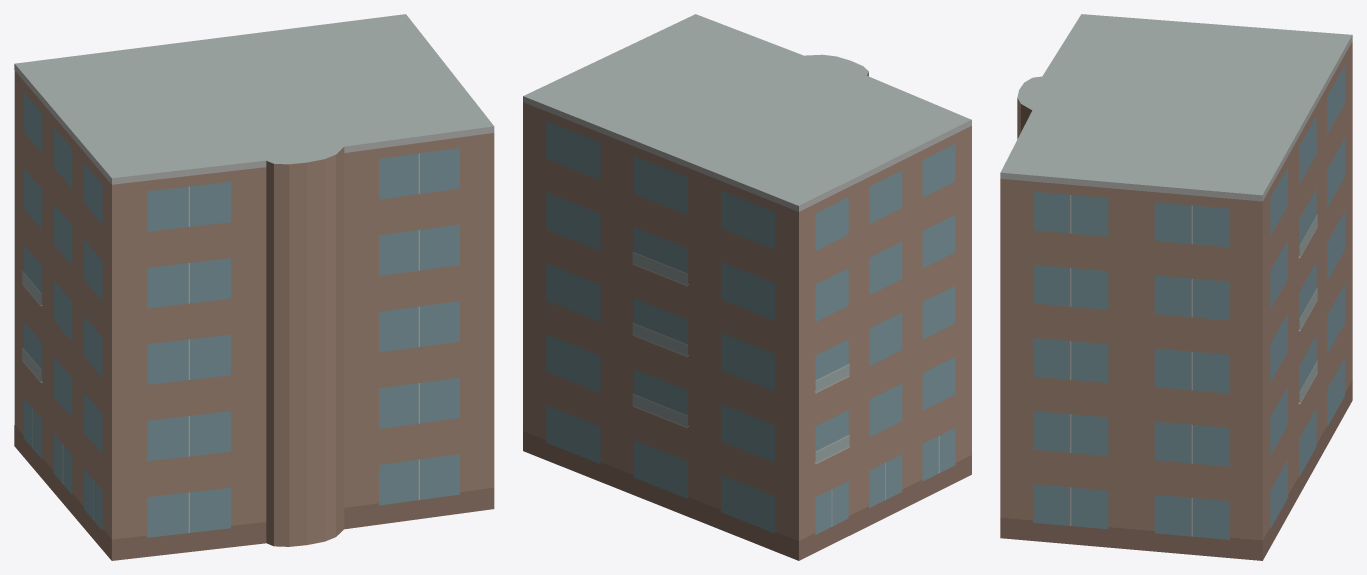
Rendered from survey-upis-32977699.glb.
3 views of the same model, side by side, from view 1: azimuth 30°, elevation 25°; view 2: azimuth 150°, elevation 25°; view 3: azimuth 270°, elevation 25° (orthographic). The views are drawn at different scales.
Parts seen in each view (by area): view 1: survey-upis-32977699.tmp; view 2: survey-upis-32977699.tmp; view 3: survey-upis-32977699.tmp.
Boxes of the visible parts, x1=… form: survey-upis-32977699.tmp: x1=14, y1=14, x2=494, y2=560; survey-upis-32977699.tmp: x1=523, y1=14, x2=971, y2=560; survey-upis-32977699.tmp: x1=1000, y1=14, x2=1352, y2=560.
Size of the model in its own units: 15.44 by 14.5 by 12.67.
